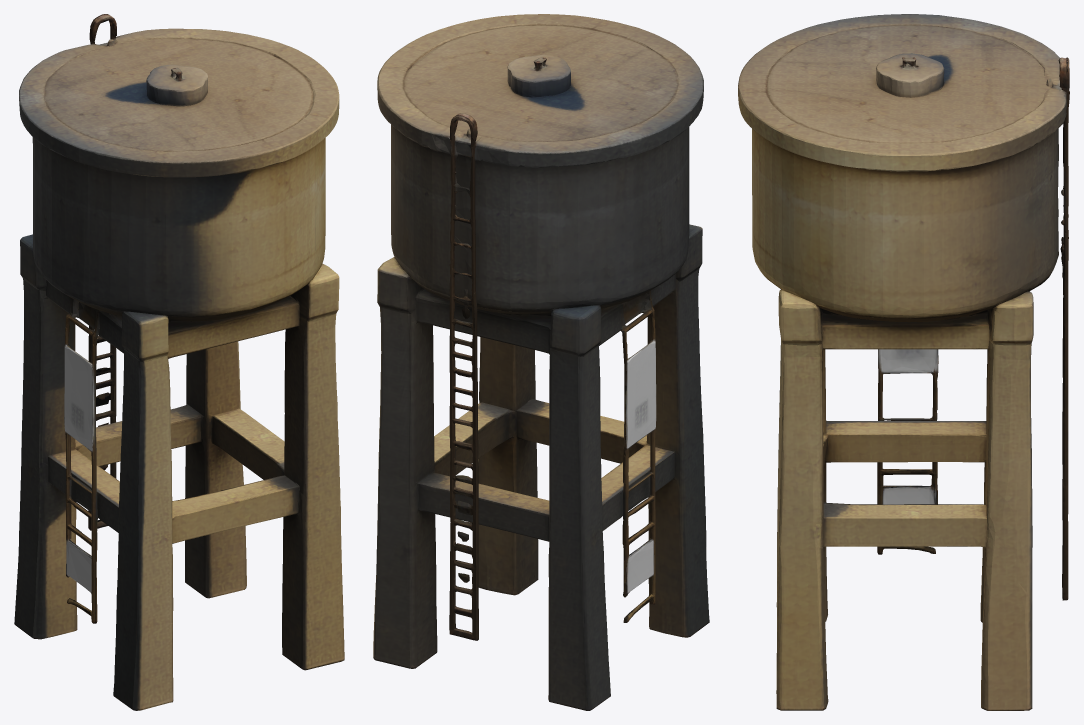
Rendered from bld_kibbutz_water_tower.glb.
3 views of the same model, side by side, from view 1: azimuth 30°, elevation 25°; view 2: azimuth 150°, elevation 25°; view 3: azimuth 270°, elevation 25° (orthographic). The views are drawn at different scales.
Parts seen in each view (by area): view 1: world; view 2: world; view 3: world.
Part boxes in pixels (x1,y1,x2,y2): world: (14, 14, 344, 710); world: (373, 14, 709, 710); world: (738, 14, 1069, 710).
Size of the model in its own units: 0.5094 by 1 by 0.5035.
Materials: 1 (1 with a texture image).
